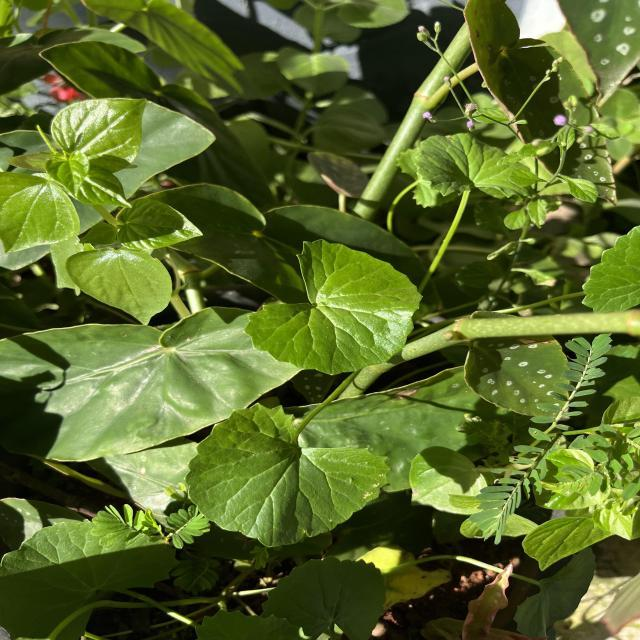Centella asiatica: (181, 400, 395, 551), (239, 234, 427, 378)
